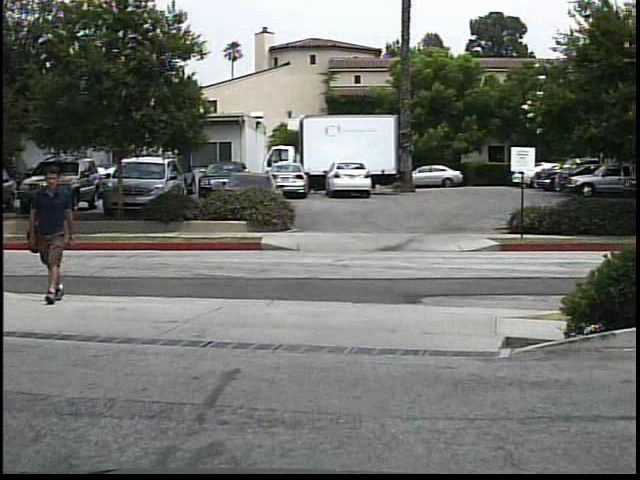person: (28, 165, 81, 310)
